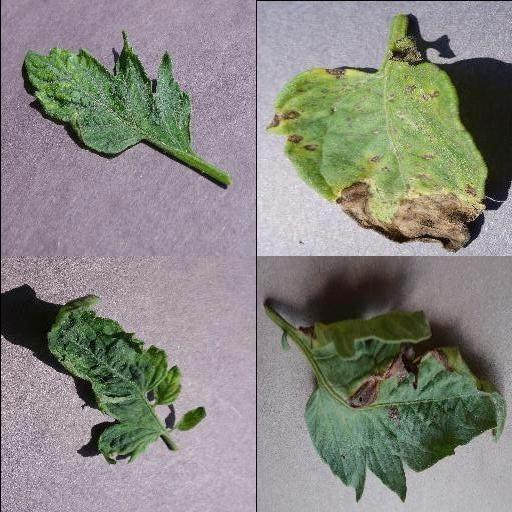Early Blight: (300, 312, 506, 500)
Mosaic Virus: (43, 291, 207, 465), (21, 28, 193, 158)
Septoria: (263, 59, 483, 255)
